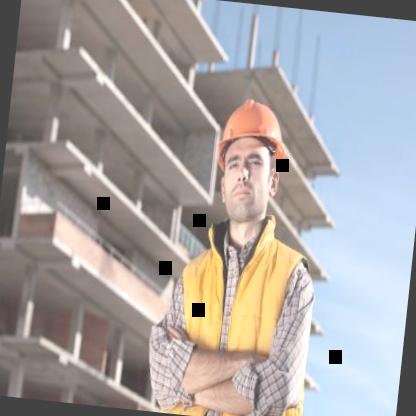helmet: (200, 84, 296, 236)
